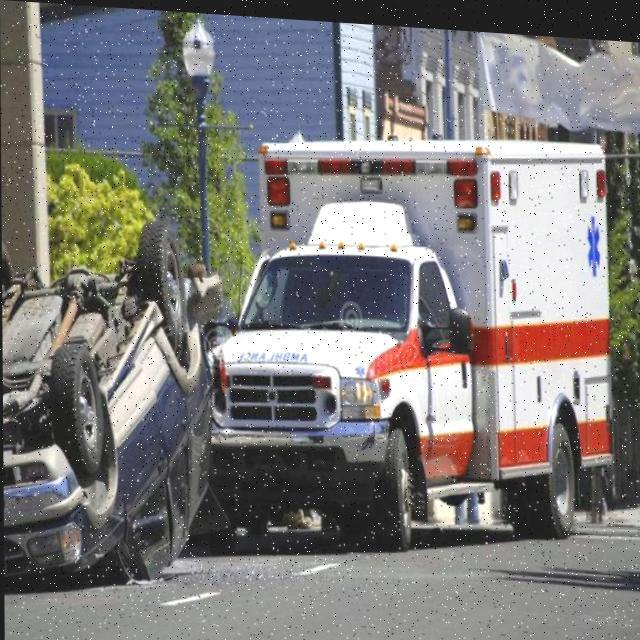single accident: (0, 156, 237, 612)
